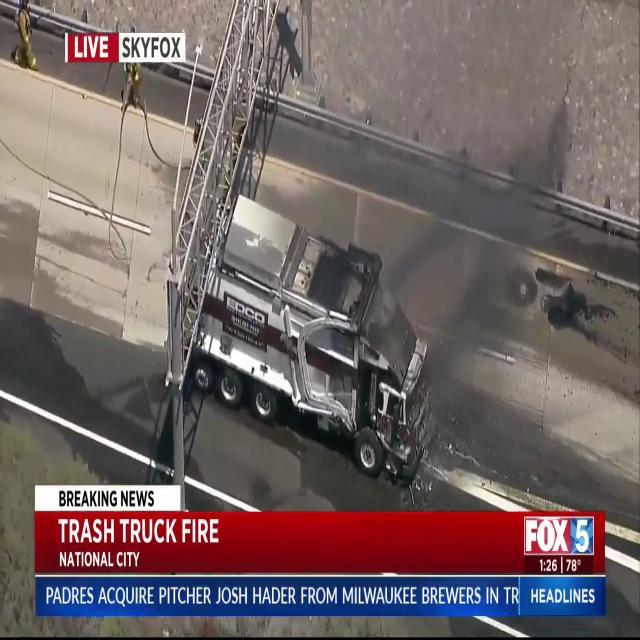Smoke: (383, 6, 580, 412)
